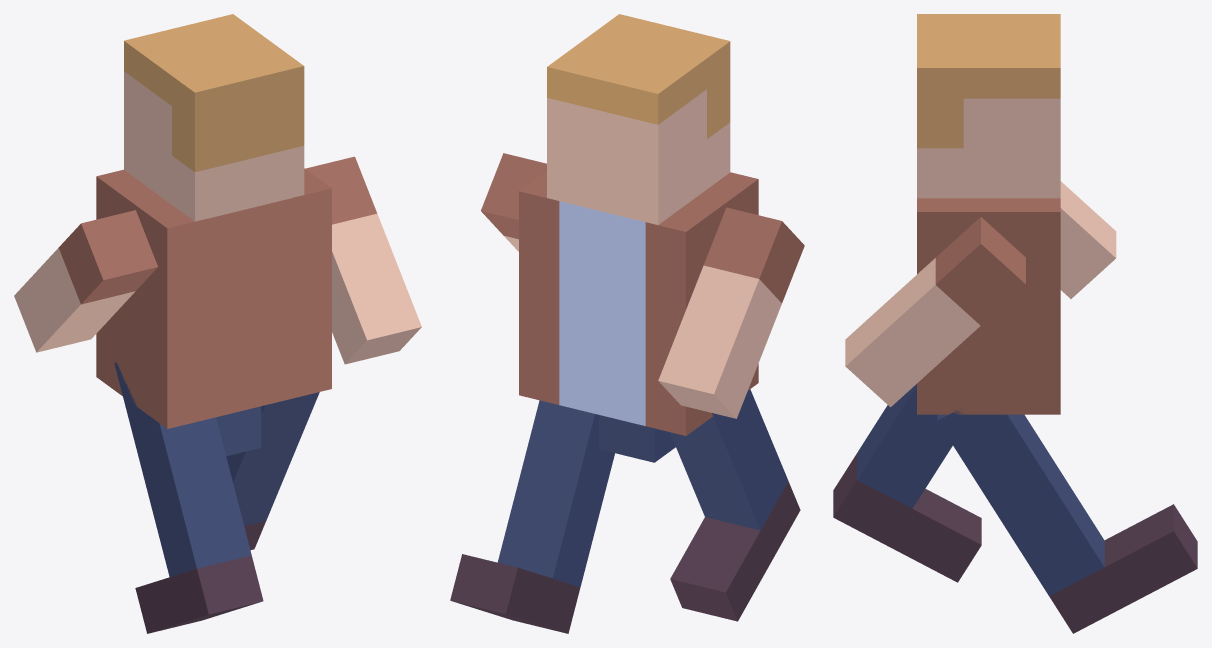
File: new-person-jump-1.2.glb
3 views of the same model, side by side, from view 1: azimuth 30°, elevation 25°; view 2: azimuth 150°, elevation 25°; view 3: azimuth 270°, elevation 25° (orthographic).
Visible parts, largest first — view 1: UNIT.056, UNIT.060, UNIT.057, UNIT.058, UNIT.059; view 2: UNIT.056, UNIT.059, UNIT.060, UNIT.058, UNIT.057; view 3: UNIT.056, UNIT.059, UNIT.057, UNIT.060, UNIT.058.
Boxes of the visible parts, x1,y1,x2,y2 form: UNIT.056: [96, 14, 331, 456]; UNIT.060: [114, 362, 263, 633]; UNIT.057: [305, 156, 421, 364]; UNIT.058: [14, 210, 157, 352]; UNIT.059: [226, 392, 319, 550]; UNIT.056: [519, 14, 758, 462]; UNIT.059: [450, 400, 614, 633]; UNIT.060: [670, 389, 800, 621]; UNIT.058: [658, 207, 804, 418]; UNIT.057: [481, 153, 546, 251]; UNIT.056: [917, 14, 1060, 445]; UNIT.059: [937, 408, 1197, 633]; UNIT.057: [845, 217, 1025, 407]; UNIT.060: [833, 384, 981, 582]; UNIT.058: [1060, 181, 1116, 298].
Size of the model in its own units: 0.7001 by 1.34 by 0.7982.
1 material, 1 textured.
